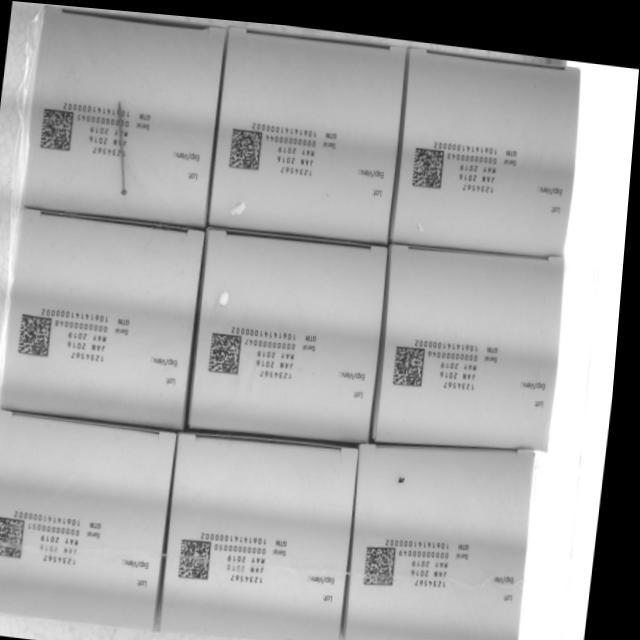datamatrix: (21, 309, 60, 357), (38, 104, 77, 152), (227, 121, 266, 169), (371, 535, 410, 582), (211, 326, 250, 373), (411, 136, 450, 183), (183, 531, 221, 579), (395, 335, 433, 383), (1, 512, 36, 560)
